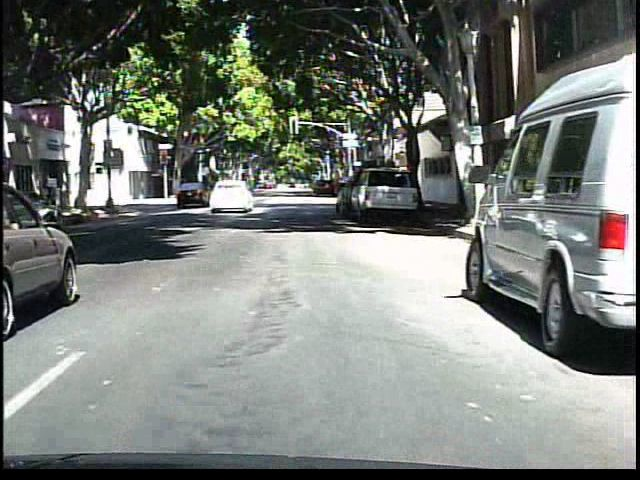person: (211, 171, 234, 209)
